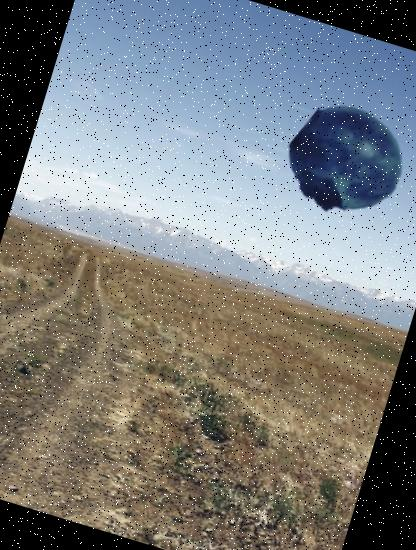Huckleberry: (277, 92, 416, 232)
